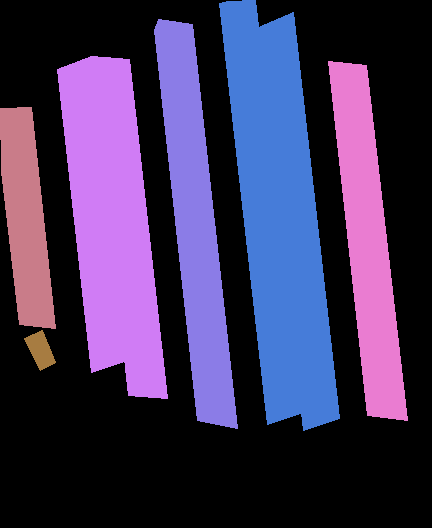parkingspot: (219, 0, 303, 424), (154, 19, 237, 428), (258, 12, 339, 430), (328, 61, 407, 420), (90, 56, 167, 398), (56, 56, 124, 372), (0, 107, 55, 328), (23, 330, 55, 370)
